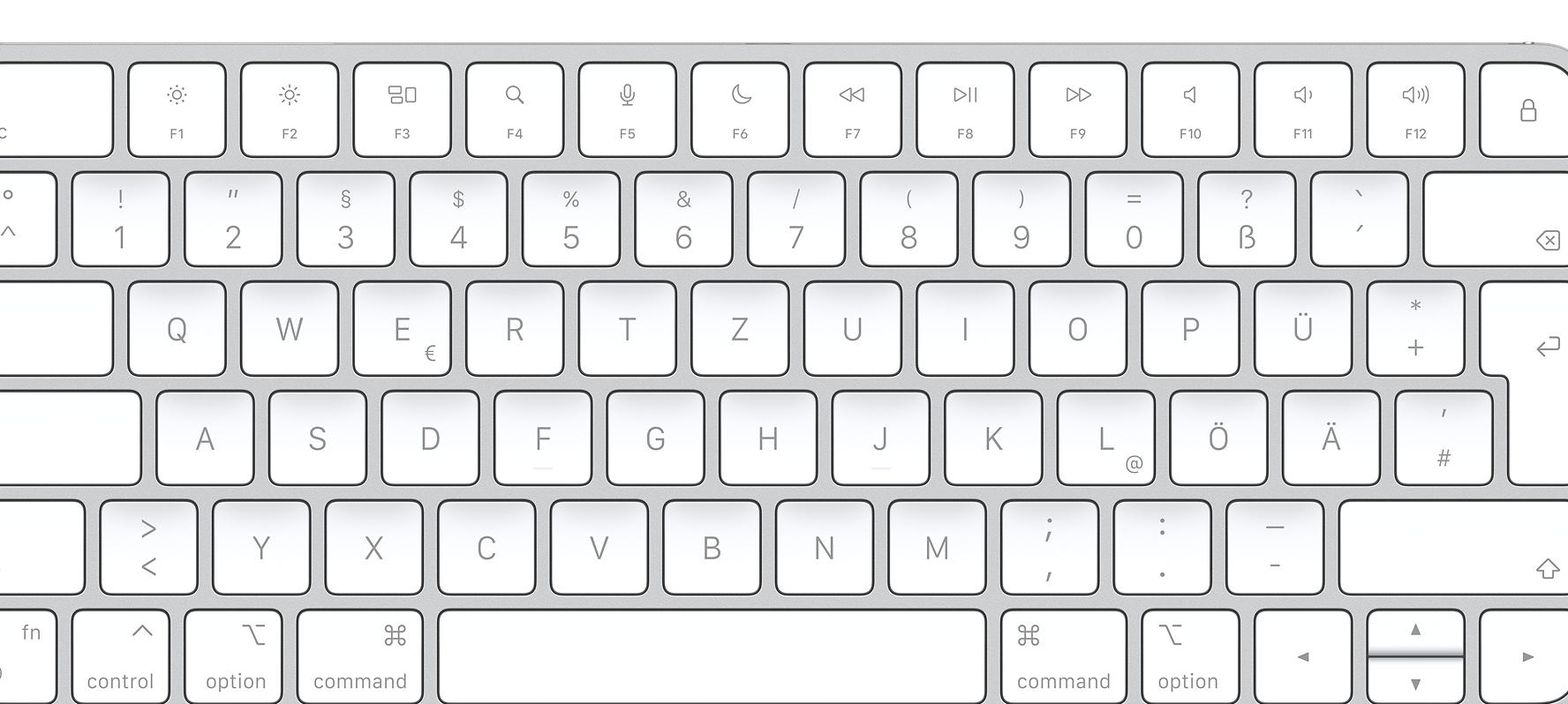0: (1081, 165, 1184, 266)
1: (66, 165, 170, 264)
2: (177, 165, 282, 265)
3: (292, 165, 396, 265)
4: (405, 165, 509, 265)
5: (516, 164, 621, 265)
6: (629, 164, 734, 265)
7: (743, 165, 846, 266)
8: (855, 165, 960, 265)
9: (967, 165, 1072, 266)
a: (151, 383, 253, 483)
accent: (1305, 164, 1407, 263)
ae: (1278, 383, 1380, 483)
alt-left: (179, 604, 285, 704)
altgr-right: (1135, 604, 1240, 704)
b: (658, 492, 763, 593)
c: (432, 493, 536, 594)
caret: (1, 165, 57, 264)
comma: (994, 492, 1099, 592)
d: (376, 383, 479, 485)
del: (1418, 164, 1568, 264)
e: (346, 274, 451, 375)
enter: (1474, 273, 1568, 483)
f: (488, 384, 592, 483)
g: (601, 383, 704, 484)
h: (713, 383, 817, 484)
hash: (1390, 383, 1492, 483)
i: (912, 273, 1014, 374)
j: (828, 383, 928, 483)
k: (939, 382, 1043, 484)
keyboard: (1, 38, 1568, 704)
l: (1052, 384, 1155, 484)
less: (93, 493, 199, 592)
m: (881, 492, 986, 593)
minus: (1219, 493, 1323, 592)
n: (770, 493, 874, 593)
o: (1024, 274, 1127, 375)
oe: (1164, 384, 1267, 485)
p: (1136, 273, 1240, 375)
plus: (1362, 273, 1464, 374)
point: (1109, 493, 1213, 592)
q: (121, 273, 227, 375)
r: (461, 274, 563, 374)
s: (262, 384, 366, 484)
shift-left: (1, 492, 85, 593)
shift-lock: (1, 382, 141, 483)
shift-right: (1330, 491, 1568, 593)
space: (430, 603, 990, 704)
ss: (1194, 165, 1296, 265)
strg-left: (66, 603, 171, 704)
t: (574, 274, 676, 374)
tab: (1, 273, 113, 373)
u: (798, 274, 901, 375)
ue: (1248, 273, 1352, 375)
v: (545, 492, 650, 593)
w: (234, 273, 338, 374)
x: (320, 493, 425, 593)
y: (208, 493, 311, 593)
z: (686, 274, 790, 375)
